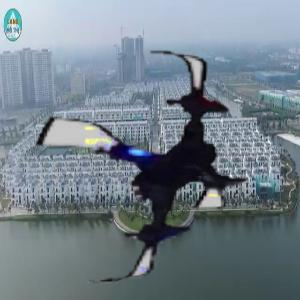drone: (16, 43, 265, 292)
